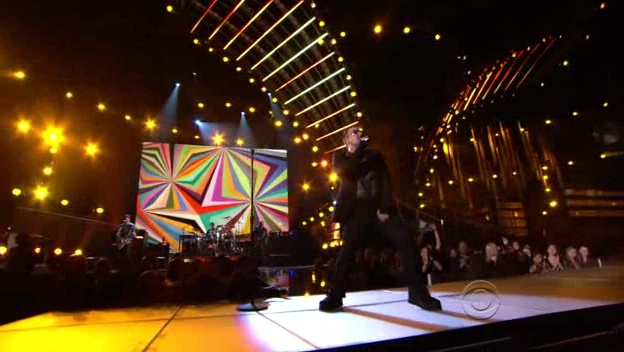person: (327, 123, 395, 241), (324, 123, 392, 241), (330, 123, 398, 241), (327, 120, 395, 238), (327, 126, 395, 244)
target_negative: (179, 3, 446, 112), (449, 39, 597, 234), (528, 69, 622, 188), (104, 270, 366, 301), (458, 243, 520, 283), (506, 339, 552, 344)
